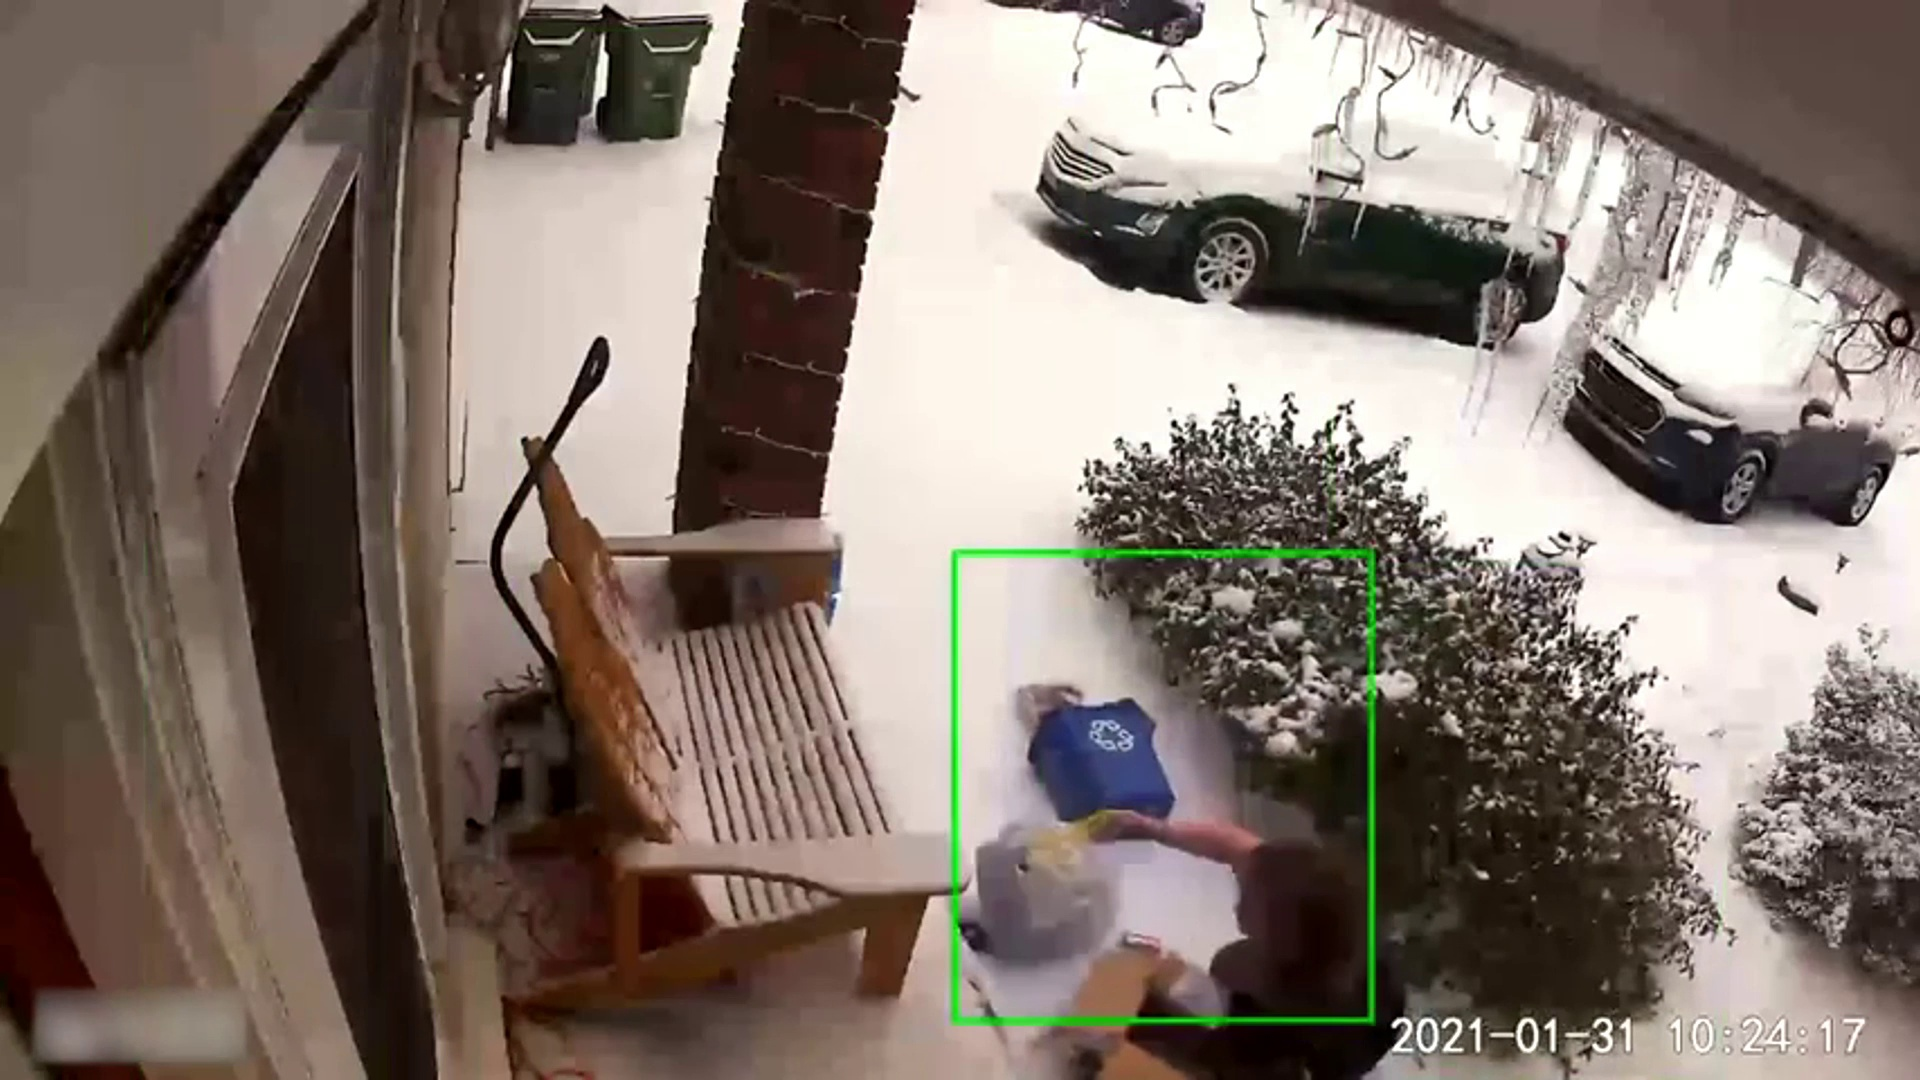fall: (944, 572, 1487, 1080)
